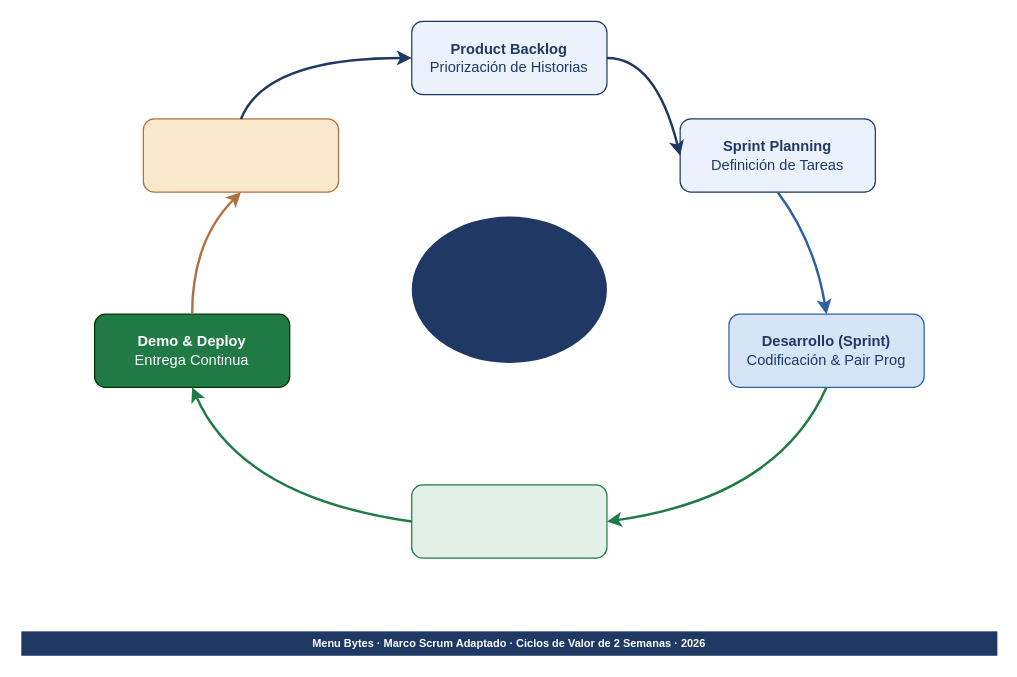
This 1017x677 diagram has some shape labels left out. The centre of each missing label's shape, as x and y in pixels:
Feedback Usuario Refinamiento de Idea: the point at 240,155
QA & Code Review TDD & Pruebas Automatizadas: the point at 509,521
Sprint 2 Semanas: the point at 508,289
